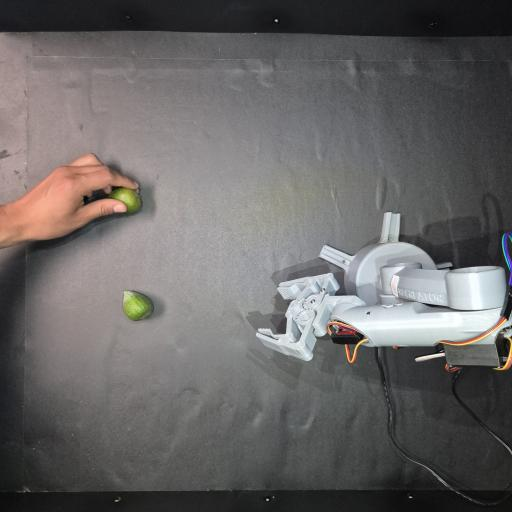higo: (123, 291, 153, 321), (108, 187, 141, 213)
